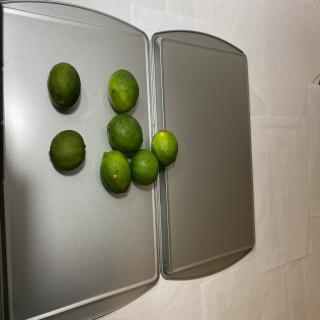Apple: (47, 62, 81, 108)
Chilli: (48, 129, 86, 171)
Lemon: (107, 69, 139, 113), (100, 149, 131, 194), (130, 148, 159, 186), (151, 129, 178, 167)
